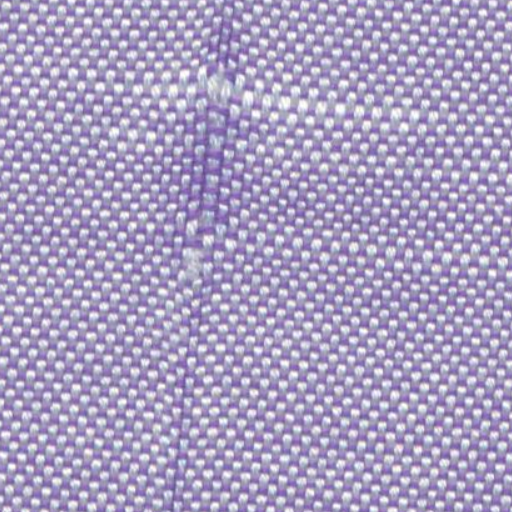DaiSha: (151, 32, 263, 344)
